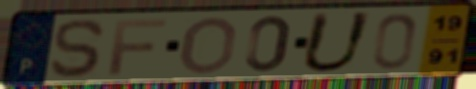0: (243, 14, 293, 74), (370, 11, 419, 71)
F: (106, 17, 170, 77)
O: (177, 15, 240, 76)
S: (47, 17, 109, 79)
U: (296, 11, 377, 75)
